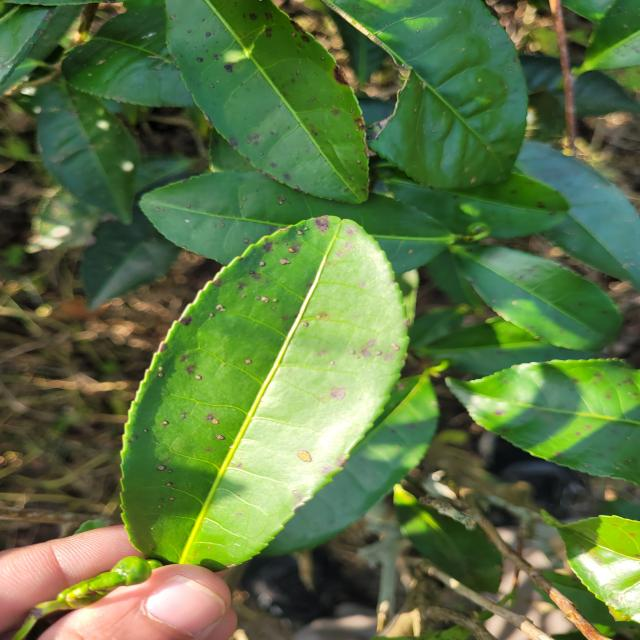Category D 7+ days, Not for Tea: (92, 191, 431, 589)
